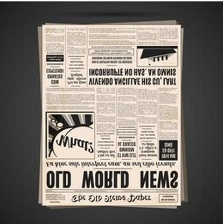news_paper: (36, 19, 186, 211)
